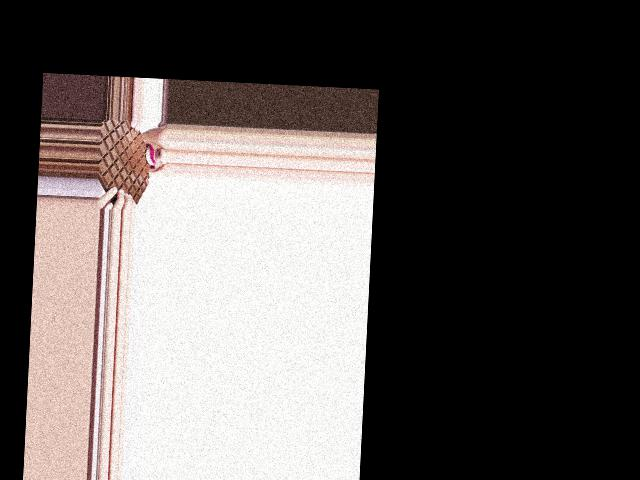chocolate: (96, 119, 154, 212)
